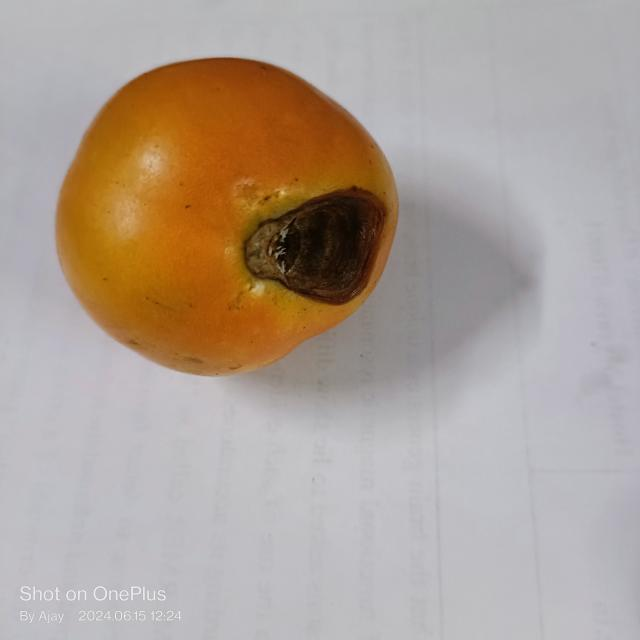Anthrocnose: (237, 185, 390, 302)
